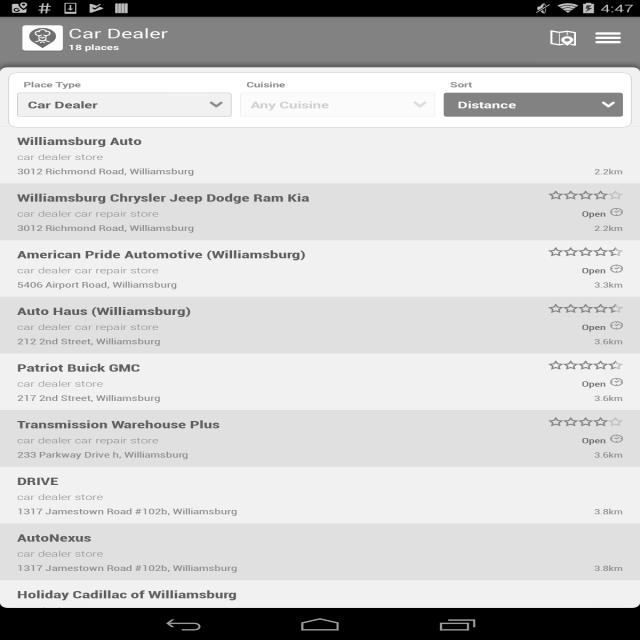ImageButton: (19, 26, 63, 52), (541, 28, 583, 49), (594, 28, 624, 45)
RatingBar: (542, 243, 626, 260), (539, 300, 626, 316), (541, 358, 629, 372), (546, 187, 628, 202), (544, 416, 626, 428)
TextView: (14, 415, 222, 460), (13, 550, 240, 577), (16, 494, 240, 517), (14, 208, 197, 234), (18, 152, 197, 177), (10, 266, 180, 292), (14, 247, 308, 262), (14, 190, 312, 204), (13, 378, 160, 403), (13, 323, 162, 347), (62, 25, 176, 53), (14, 588, 241, 602), (14, 304, 193, 318), (14, 134, 151, 148), (13, 361, 141, 373), (245, 96, 335, 113), (12, 528, 98, 544), (22, 97, 103, 113), (455, 97, 522, 113), (19, 79, 83, 90), (12, 474, 63, 486), (240, 80, 290, 90), (444, 76, 477, 91), (578, 207, 610, 221), (576, 322, 610, 333), (576, 378, 609, 389)
